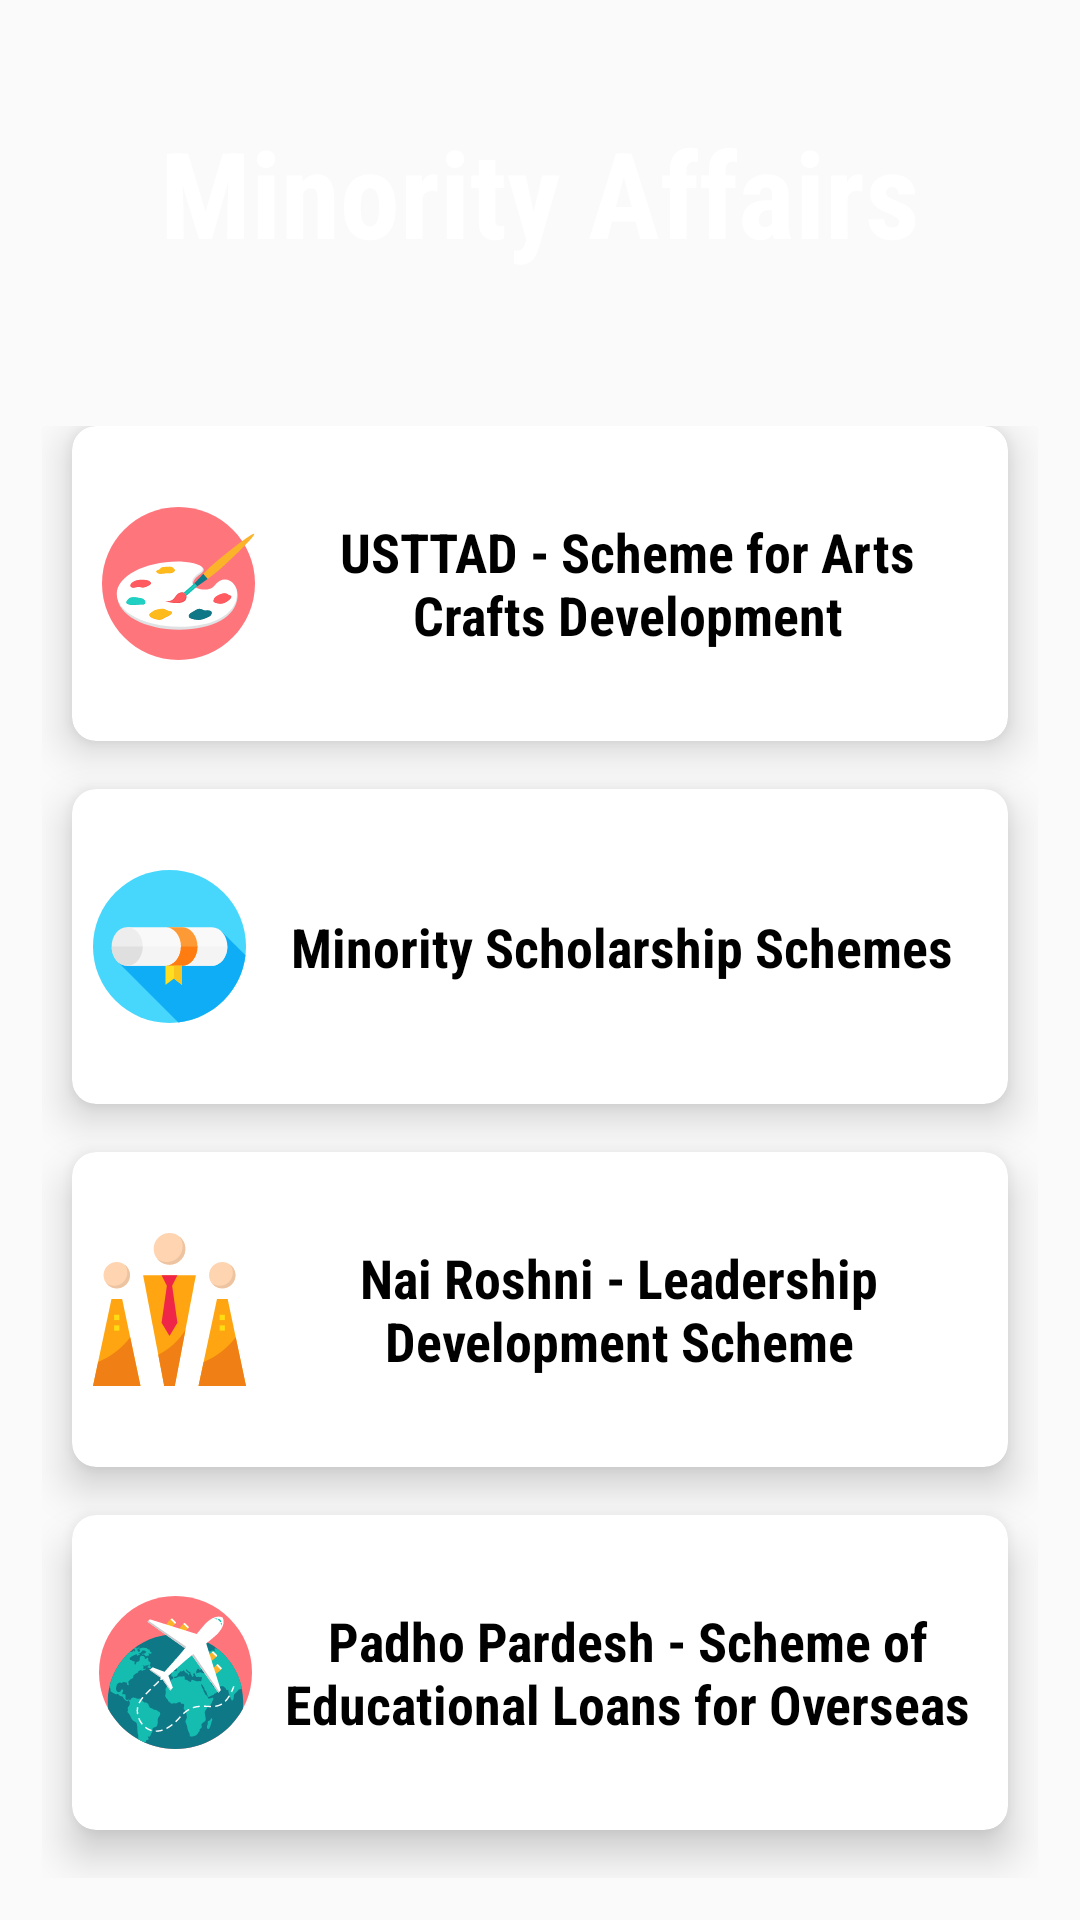

Locate icon controls on the screen. Image size 1080px×1920px, boxes as (x1, y1, x2, y2).
diploma: (93, 870, 246, 1023)
painting palette: (102, 507, 255, 660)
partner: (93, 1233, 246, 1386)
travel: (99, 1596, 252, 1749)
